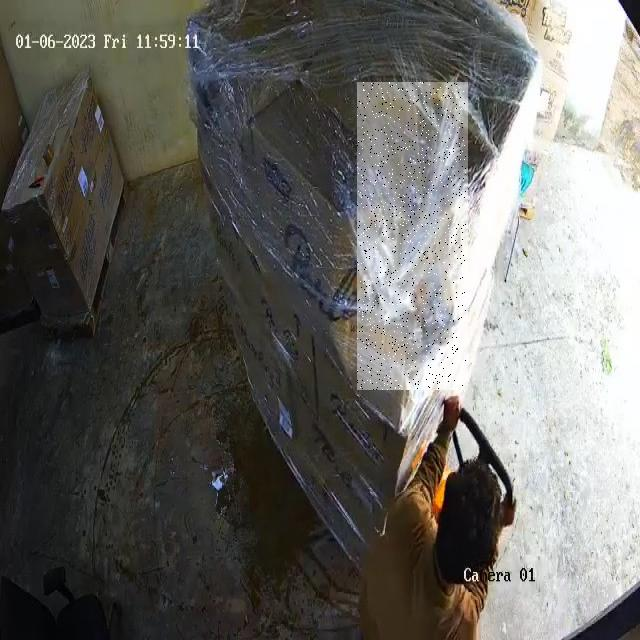squeeze: (357, 83, 466, 390)
